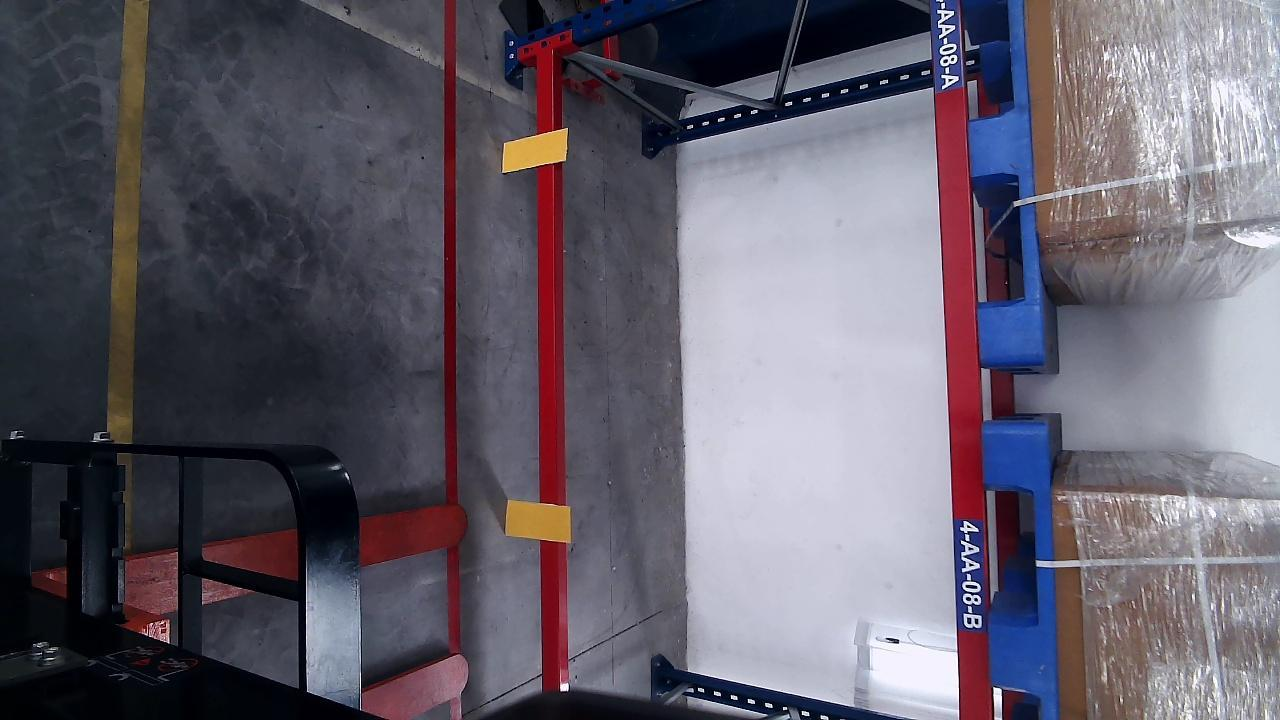h_rack: (929, 1, 992, 720), (529, 52, 562, 691)
orange_strip: (501, 129, 568, 172), (502, 502, 570, 539)
red_line: (445, 0, 462, 720)
small_pallet: (957, 0, 1044, 365), (980, 427, 1056, 720)
yellow_line: (107, 2, 148, 434)
